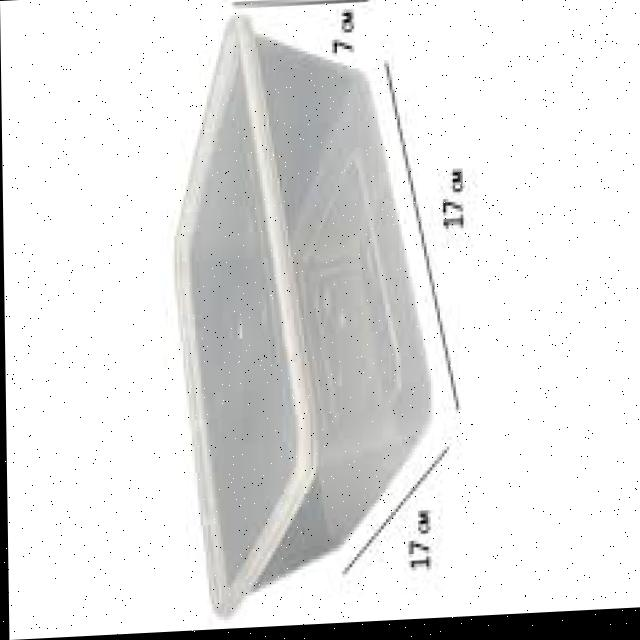disposable: (154, 0, 453, 634)
